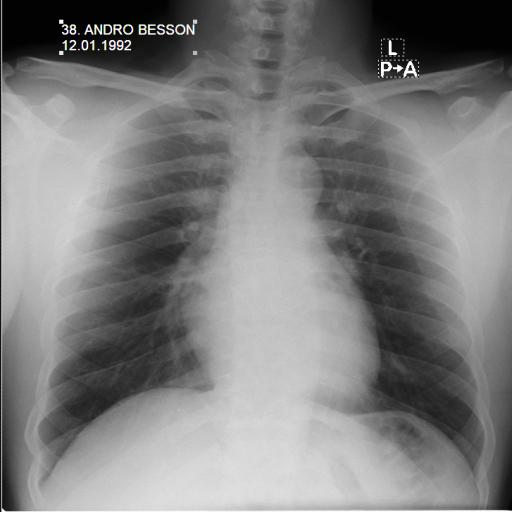normal: (21, 41, 500, 497)
